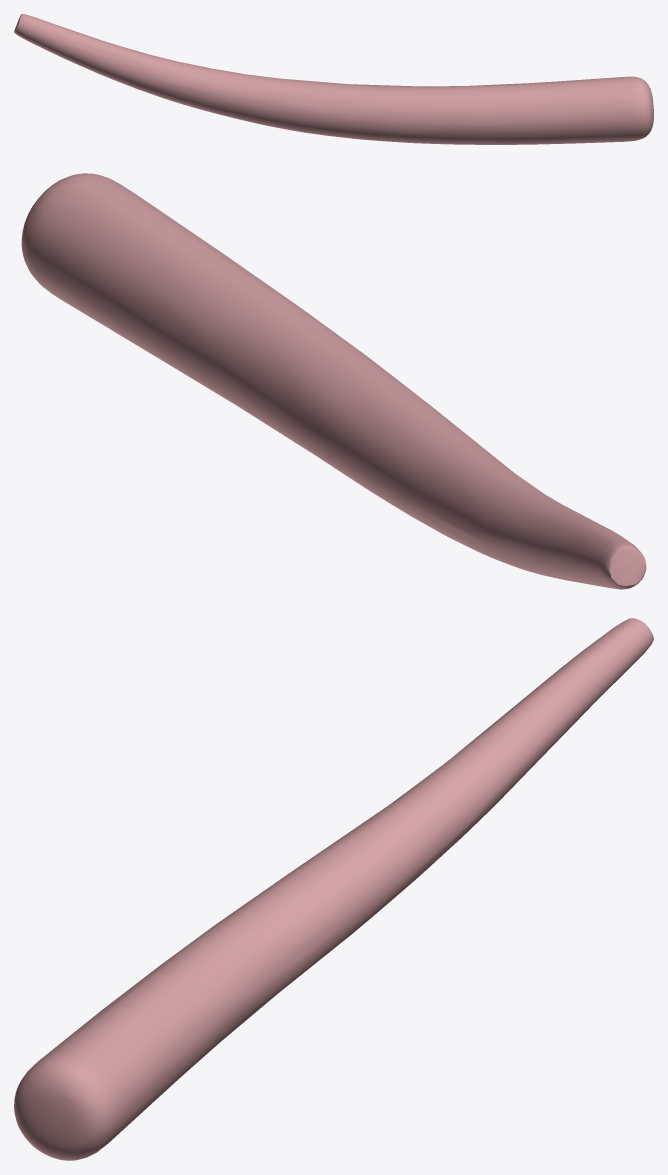
The model's file is fma68213_fj6569.glb.
3 renders of one model, top to bottom at view 1: azimuth 30°, elevation 25°; view 2: azimuth 150°, elevation 25°; view 3: azimuth 270°, elevation 25°, orthographic. The views are drawn at different scales.
Visible parts, largest first — view 1: FMA68213_FJ6569; view 2: FMA68213_FJ6569; view 3: FMA68213_FJ6569.
Part boxes in pixels (<box>): FMA68213_FJ6569: <box>14,14,653,144</box>; FMA68213_FJ6569: <box>21,173,646,589</box>; FMA68213_FJ6569: <box>14,618,653,1160</box>.
Size of the model in its own units: 0.0424 by 0.00919 by 0.0298.
